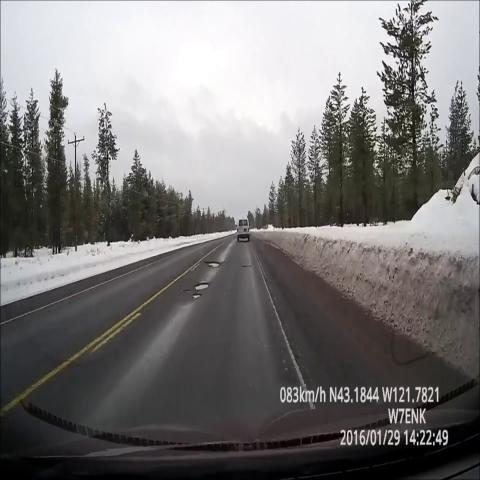pothole: (179, 272, 216, 310), (203, 253, 228, 277), (233, 257, 254, 278)
